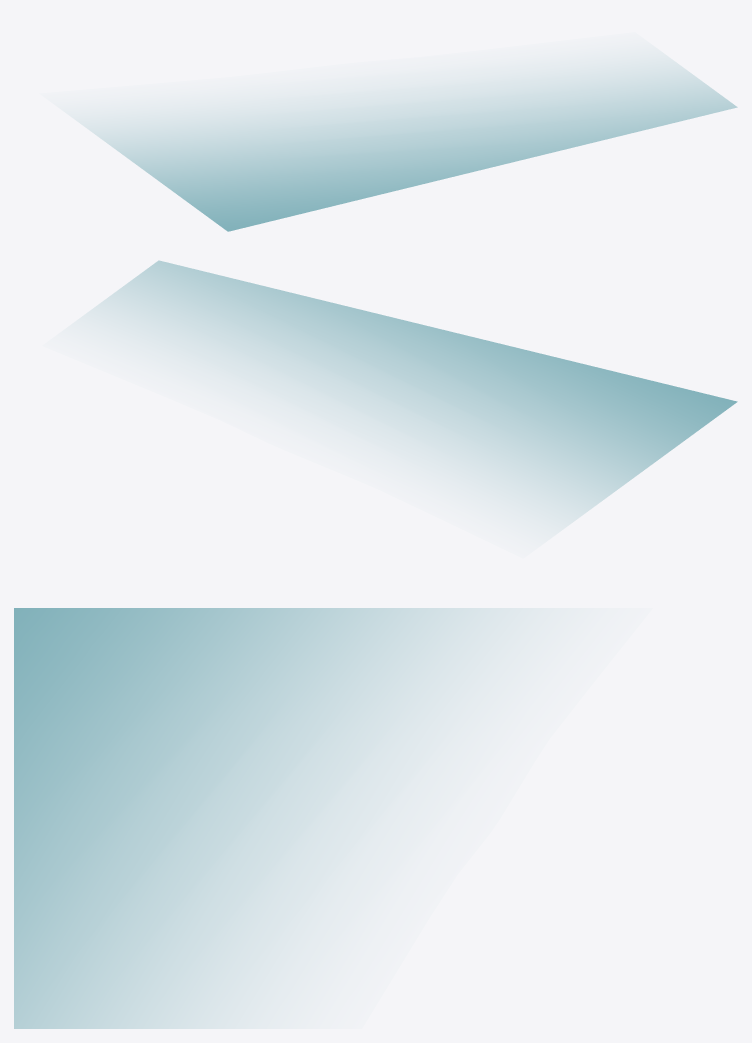
The picture shows the model from 3 angles, top to bottom: view 1: azimuth 30°, elevation 25°; view 2: azimuth 150°, elevation 25°; view 3: azimuth 270°, elevation 25°; orthographic projection. The views are drawn at different scales.
Visible parts, largest first — view 1: city; view 2: city; view 3: city.
Boxes of the visible parts, left/top/right/bottom form: city: left=77, top=59, right=737, bottom=231; city: left=84, top=260, right=737, bottom=527; city: left=14, top=608, right=528, bottom=1028.
Bounding box in the file's own units: 500 × 0 × 363.
